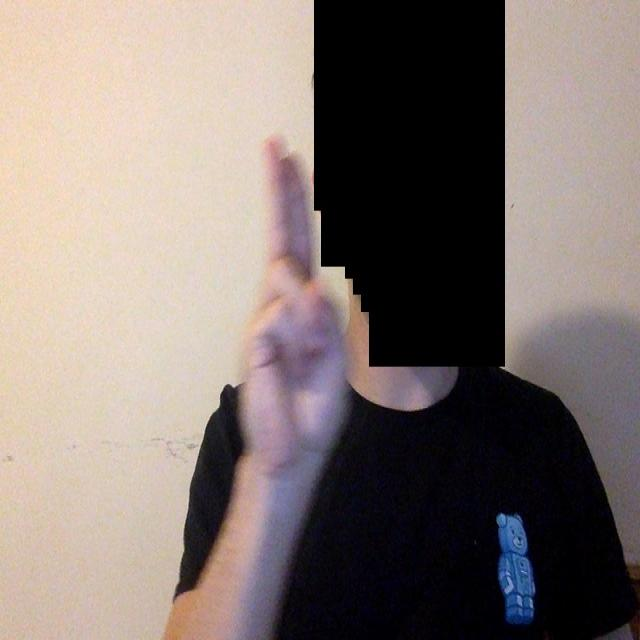U: (214, 138, 394, 500)
